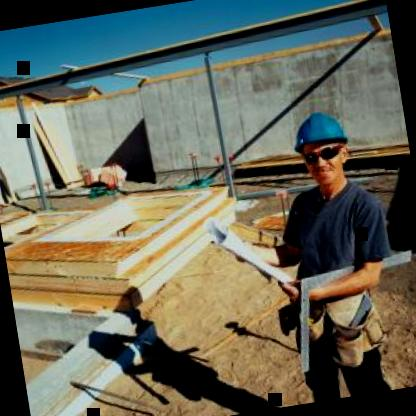helmet: (291, 107, 355, 192)
